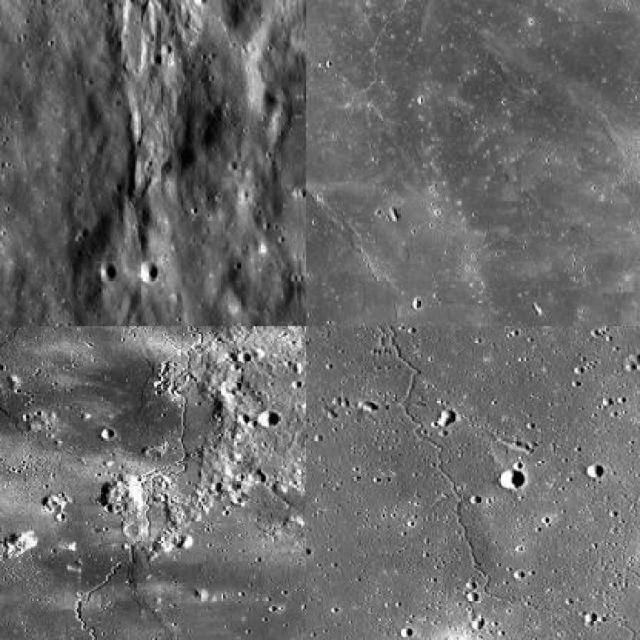rille: (382, 326, 638, 639), (306, 0, 639, 209), (72, 326, 271, 639)
